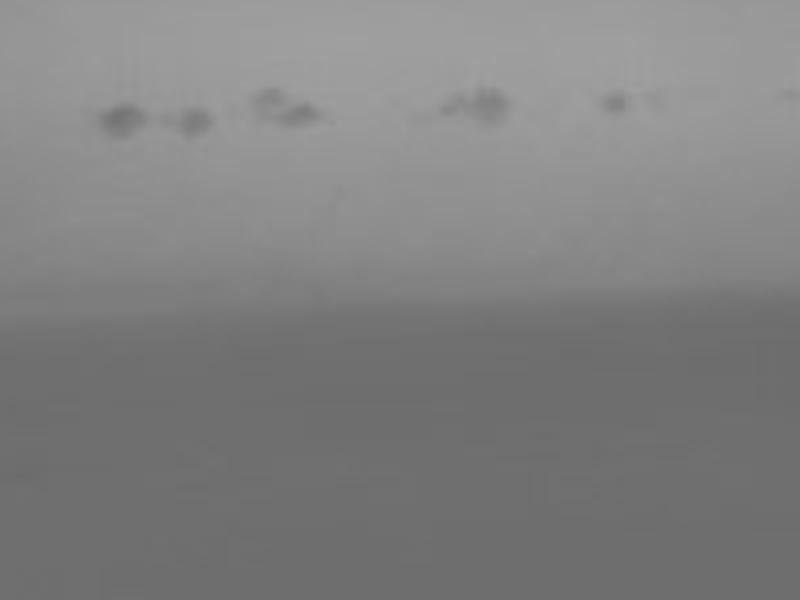defect: (463, 82, 510, 124), (105, 104, 145, 146), (270, 103, 323, 134), (172, 106, 218, 141), (595, 88, 630, 115), (248, 86, 287, 110), (442, 91, 465, 122)
